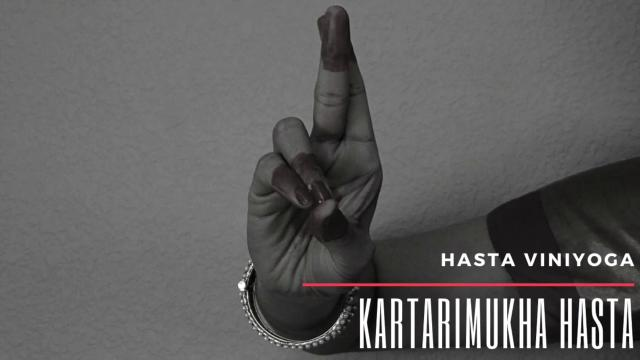kartarimukh: (207, 5, 419, 341)
